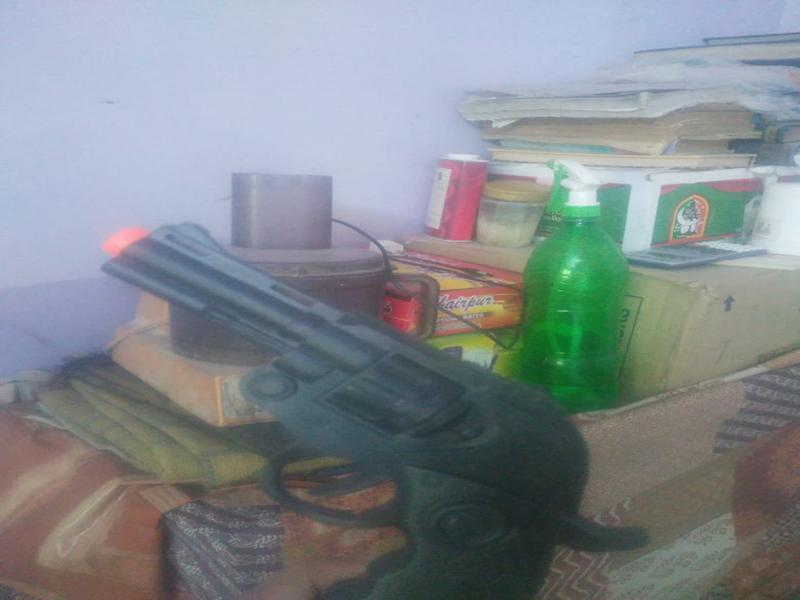gun: (96, 220, 651, 600)
